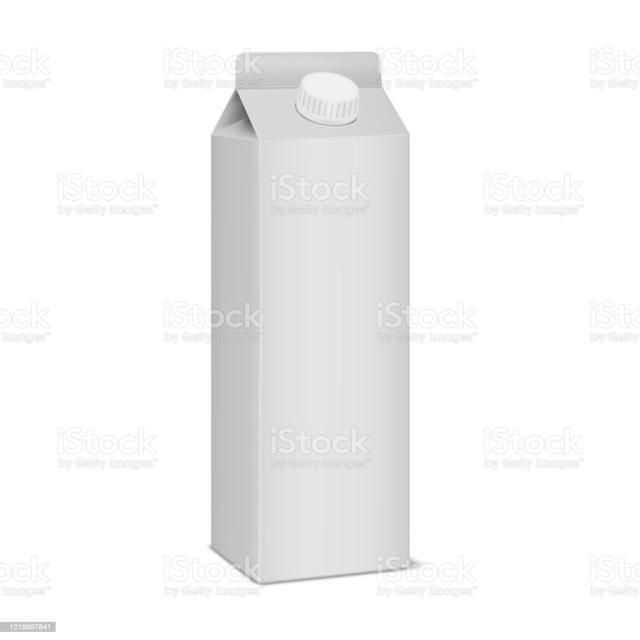Carton: (200, 42, 430, 588)
